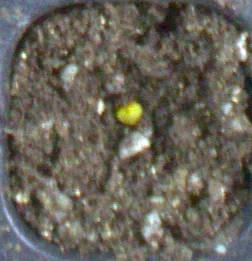pepper seed: (44, 38, 187, 164)
